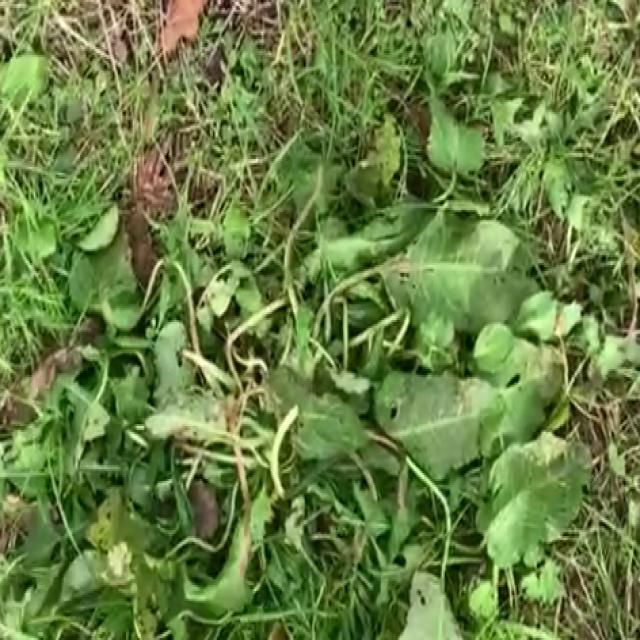organic waste: (18, 61, 604, 640)
